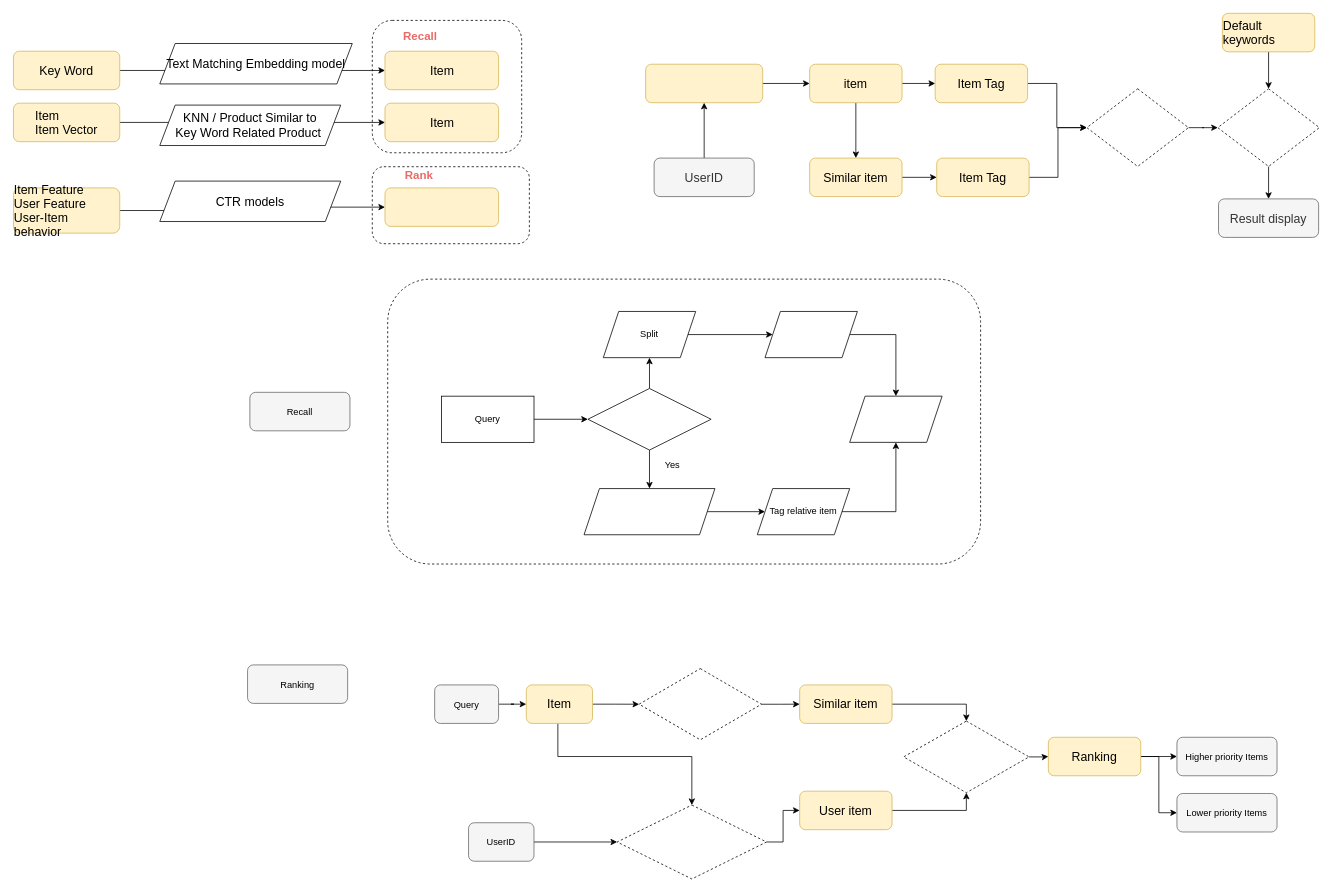
Image size: 1333x893. Some labels were removed from this diagram. Here are the shapes that lost their labels. From the top down, the centre of each, then its label:
the point at 704,83: Item with historical interactions
the point at 1137,127: Orderly splicing
the point at 1268,127: mapping
the point at 441,206: Ranked Items
the point at 810,334: Word relative
the point at 649,419: If in keyword set
the point at 895,418: Item relative item
the point at 649,511: Keyword relative tags
the point at 700,704: Item Emdedding
the point at 966,756: Recommended weight addition
the point at 691,841: User Item Emdedding
